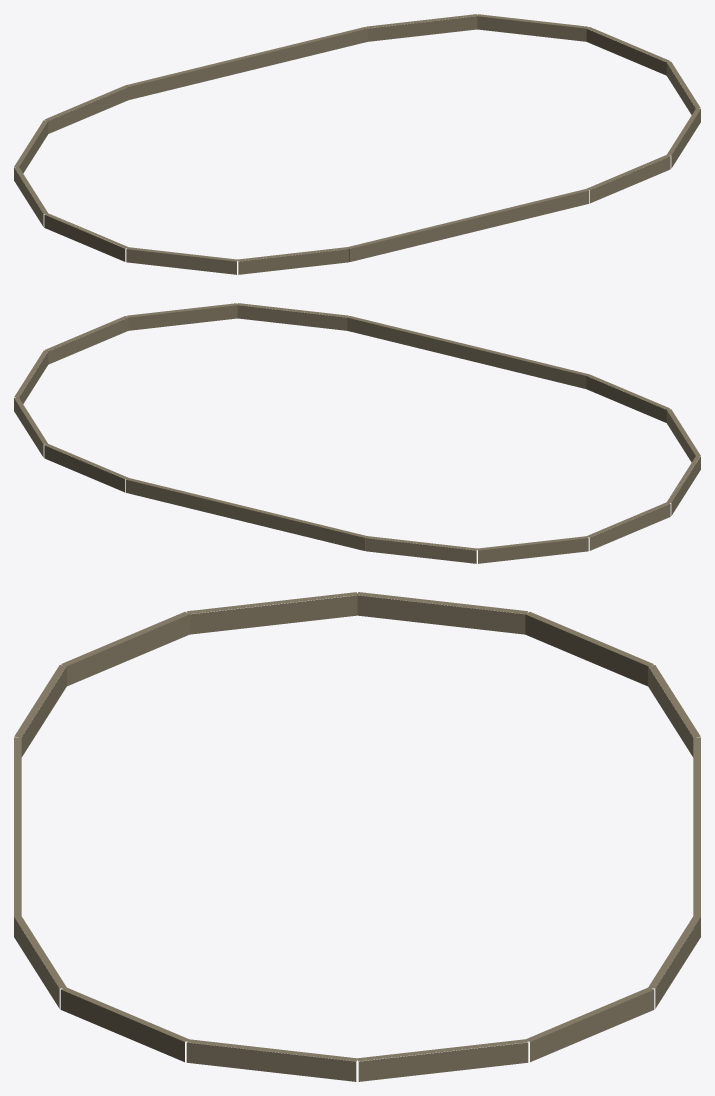
Rendered from bw-quay.zfix-v16.lod2.glb.
3 renders of one model, top to bottom at view 1: azimuth 30°, elevation 25°; view 2: azimuth 150°, elevation 25°; view 3: azimuth 270°, elevation 25°, orthographic. The views are drawn at different scales.
Visible parts, largest first — view 1: bw-quay; view 2: bw-quay; view 3: bw-quay.
Boxes of the visible parts, x1,y1,x2,y2 form: bw-quay: (14,14,700,274); bw-quay: (14,303,700,563); bw-quay: (14,592,700,1081).
Size of the model in its own units: 144 by 2.93 by 89.01.
